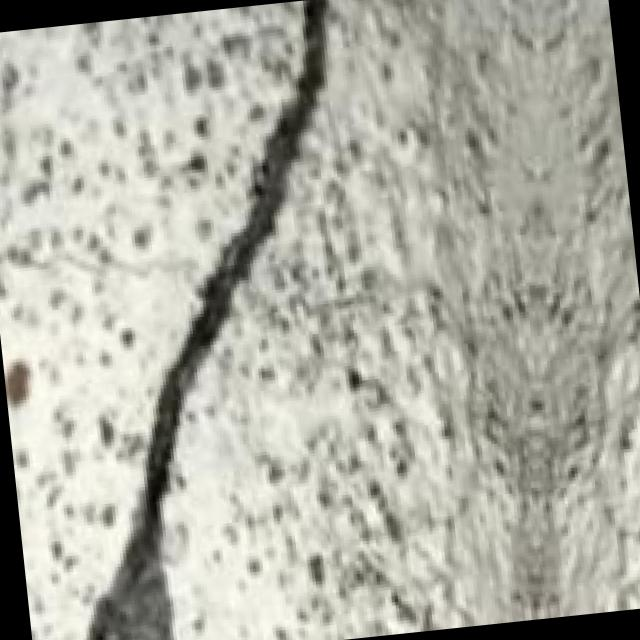crack: (6, 0, 410, 640)
